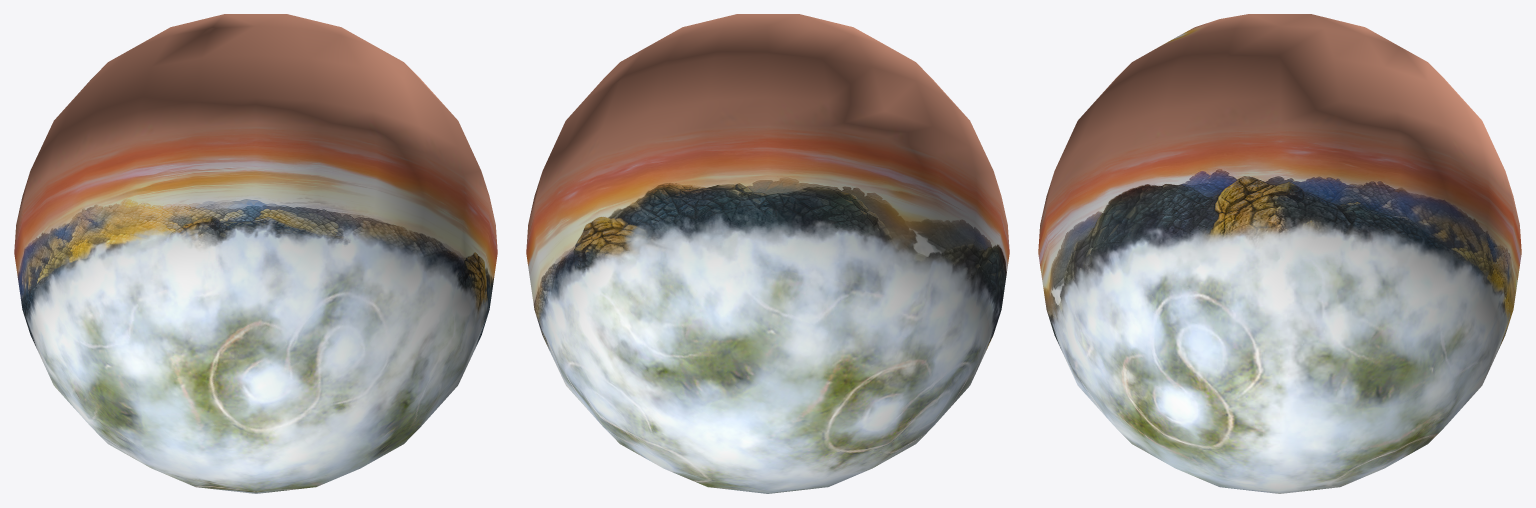
The model's file is Machu_Skybox.glb.
The picture shows the model from 3 angles, left to right: view 1: azimuth 30°, elevation 25°; view 2: azimuth 150°, elevation 25°; view 3: azimuth 270°, elevation 25°; orthographic projection.
Parts seen in each view (by area): view 1: Sky_Machu01_geo; view 2: Sky_Machu01_geo; view 3: Sky_Machu01_geo.
Part boxes in pixels (x1,y1,x2,y2): Sky_Machu01_geo: [14, 14, 497, 493]; Sky_Machu01_geo: [526, 14, 1009, 493]; Sky_Machu01_geo: [1038, 14, 1521, 493].
Bounding box in the file's own units: 145 × 145 × 145.
1 material, 1 textured.
